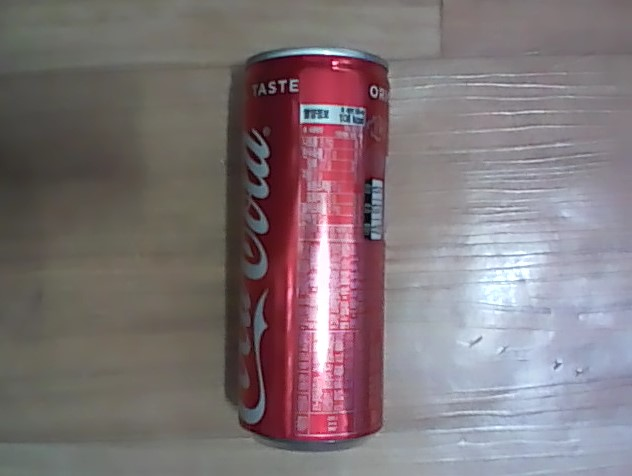Can: (227, 40, 394, 451)
